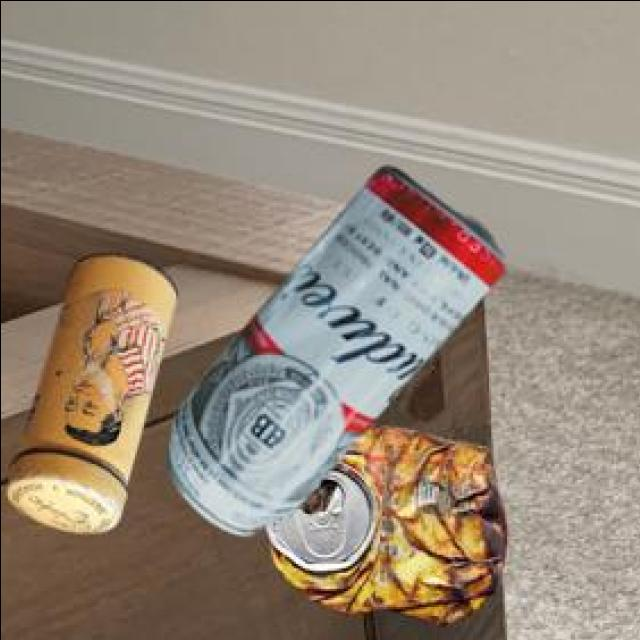logam: (162, 162, 500, 530), (262, 421, 503, 621), (3, 251, 174, 530)
